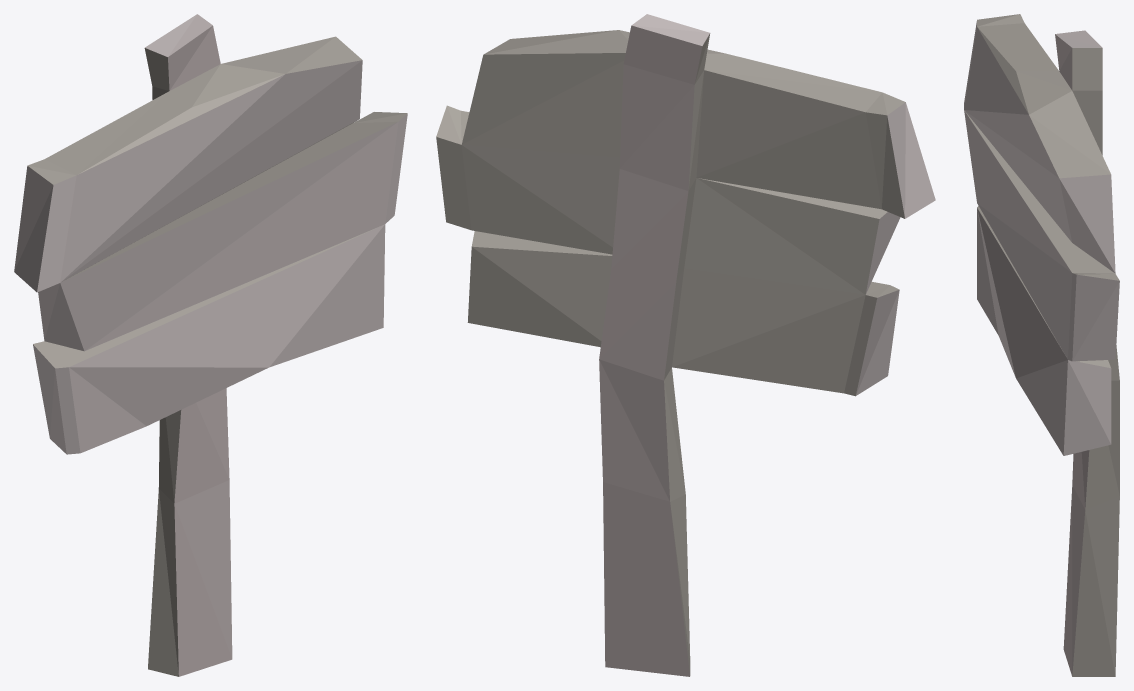
3 renders of one model, left to right at view 1: azimuth 30°, elevation 25°; view 2: azimuth 150°, elevation 25°; view 3: azimuth 270°, elevation 25°, orthographic. The views are drawn at different scales.
Size of the model in its own units: 111 by 158 by 36.
Materials: 1 (1 with a texture image).
